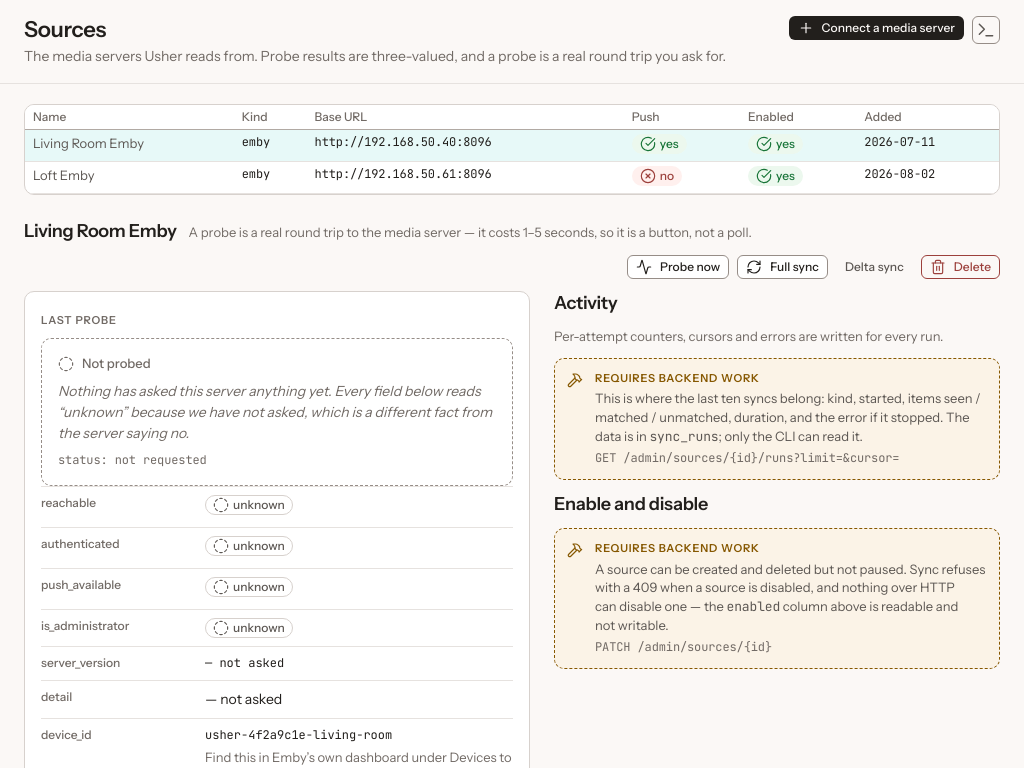
Test case: Sources › renders is_administrator: true in warn tone with its sentence, never as a success
Check: the text "Loft Emby" is shown, box [25,162,234,194]
Click the button "Probe now".
click(678, 267)  # box [627,255,729,279]
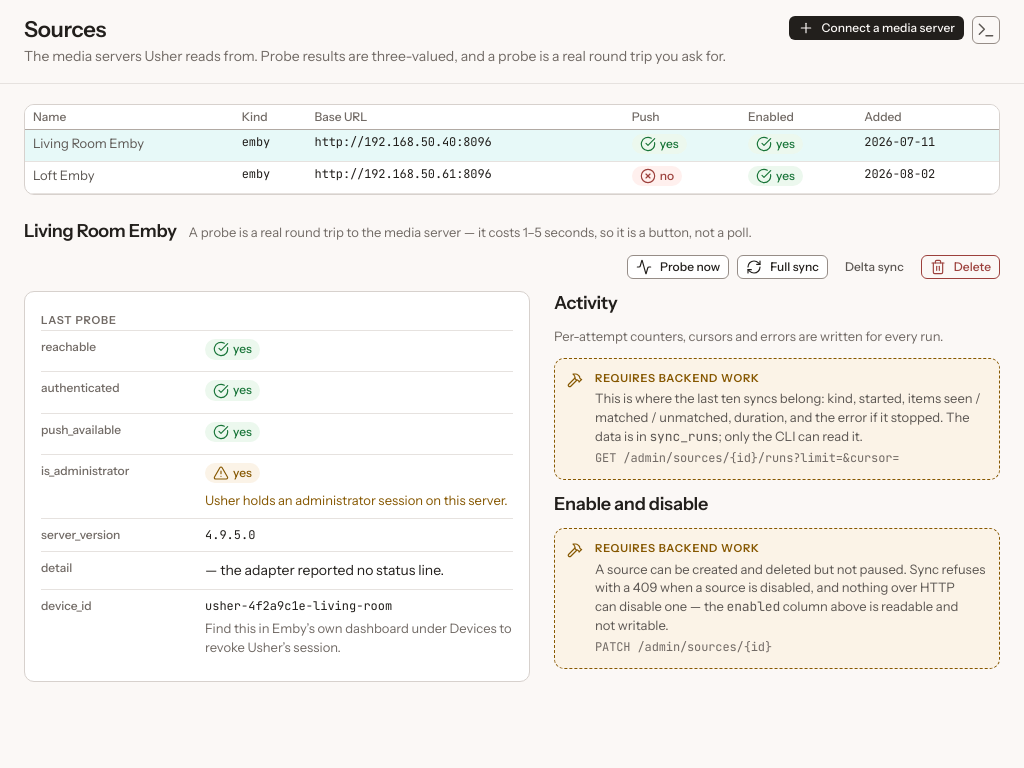
Check: the text "Usher holds an administrator session on this server." is shown, box [205,491,508,510]
